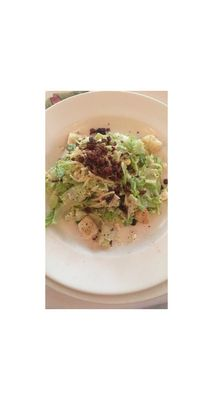sushi: (44, 91, 168, 311)
